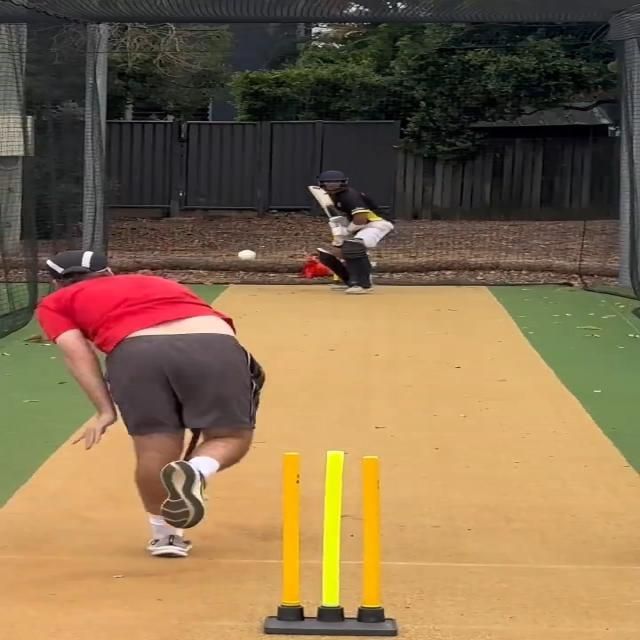ball: (237, 248, 260, 262)
stump: (260, 450, 401, 640)
